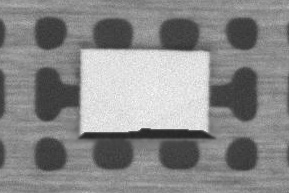DIE_BROKEN: (76, 125, 217, 140)
